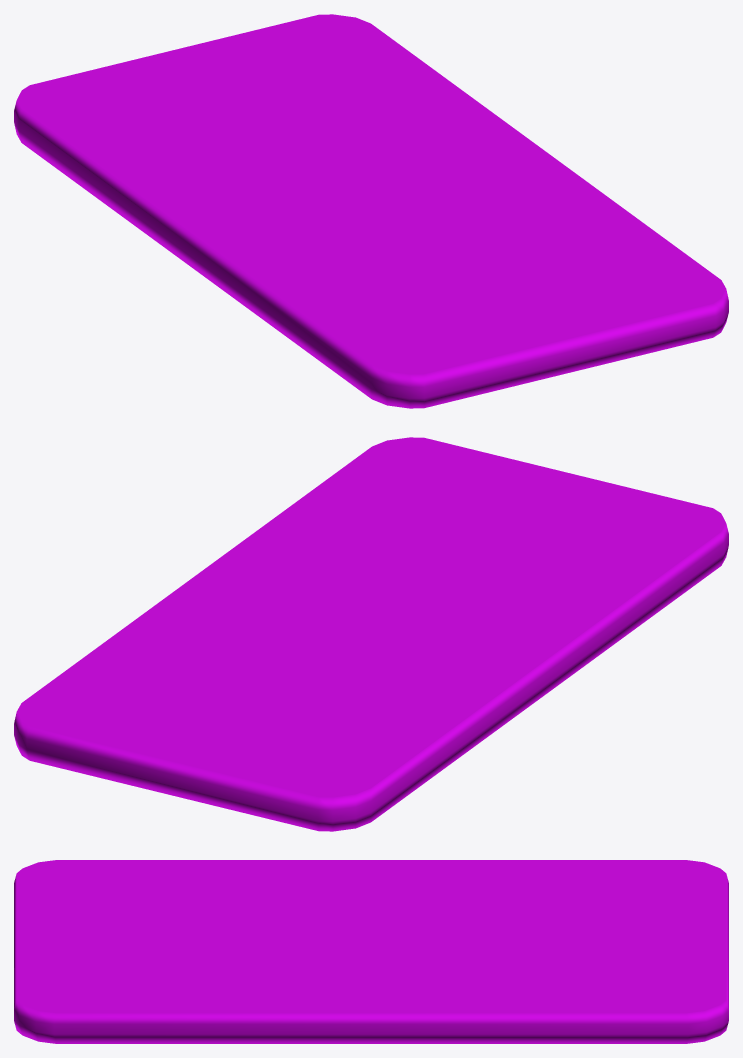
The model's file is smartphone.fbx.
The picture shows the model from 3 angles, top to bottom: view 1: azimuth 30°, elevation 25°; view 2: azimuth 150°, elevation 25°; view 3: azimuth 270°, elevation 25°; orthographic projection. The views are drawn at different scales.
Parts seen in each view (by area): view 1: smartphone; view 2: smartphone; view 3: smartphone.
Part boxes in pixels (bbox=[...]): smartphone: bbox=[14, 14, 728, 408]; smartphone: bbox=[14, 437, 728, 831]; smartphone: bbox=[14, 860, 728, 1043].
Size of the model in its own units: 301 by 27.82 by 588.
